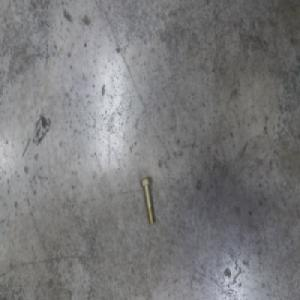Bolt: (140, 173, 156, 223)
